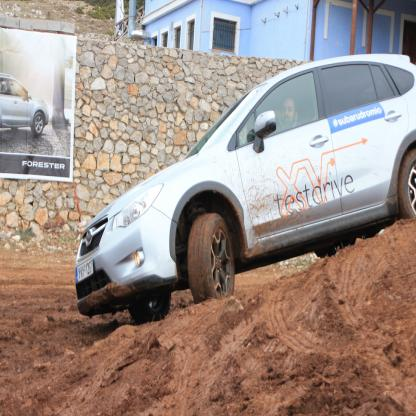Car: (75, 55, 416, 321), (2, 74, 51, 141)
